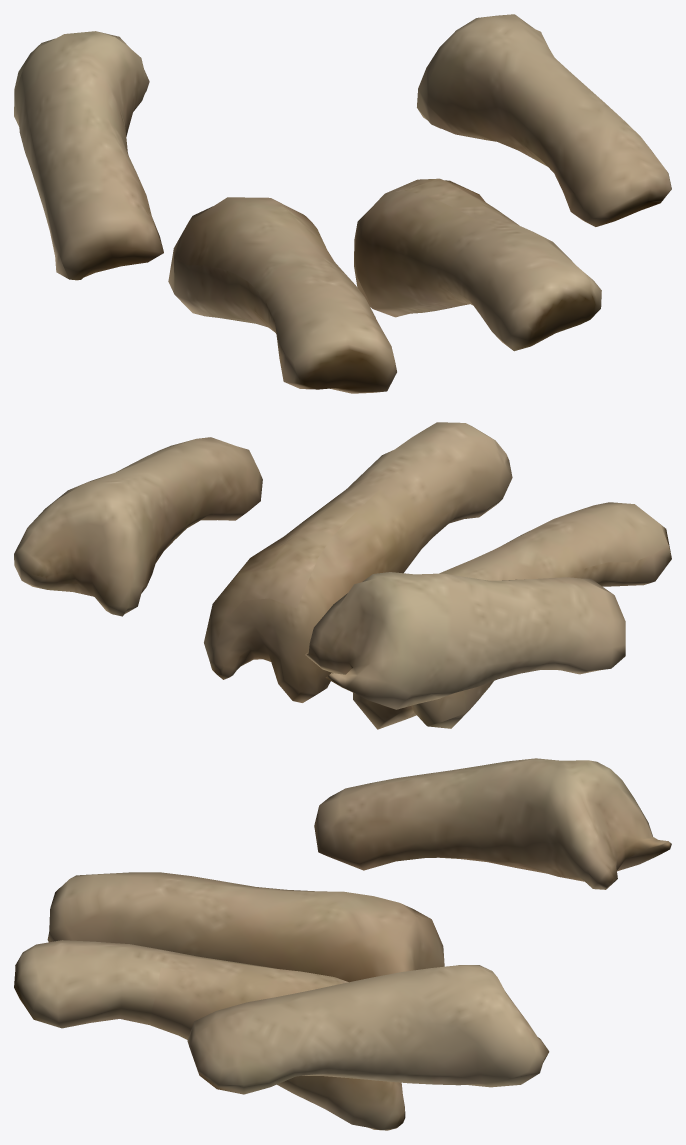
The model's file is Proximal_Phalanges.glb.
3 views of the same model, one above another, from view 1: azimuth 30°, elevation 25°; view 2: azimuth 150°, elevation 25°; view 3: azimuth 270°, elevation 25° (orthographic). The views are drawn at different scales.
Parts seen in each view (by area): view 1: polySurface6, polySurface7, polySurface8, polySurface9; view 2: polySurface7, polySurface9, polySurface6, polySurface8; view 3: polySurface6, polySurface9, polySurface8, polySurface7.
Boxes of the visible parts, <box> form: polySurface6: <box>417,14,671,226</box>; polySurface7: <box>354,178,601,351</box>; polySurface8: <box>168,197,396,393</box>; polySurface9: <box>14,31,163,280</box>; polySurface7: <box>204,422,512,702</box>; polySurface9: <box>305,572,625,709</box>; polySurface6: <box>14,437,262,616</box>; polySurface8: <box>353,502,671,729</box>; polySurface6: <box>187,965,549,1094</box>; polySurface9: <box>314,758,671,889</box>; polySurface8: <box>47,872,444,982</box>; polySurface7: <box>14,940,405,1130</box>.
Bounding box in the file's own units: 38.54 × 16.78 × 40.43.
Materials: 1 (1 with a texture image).
